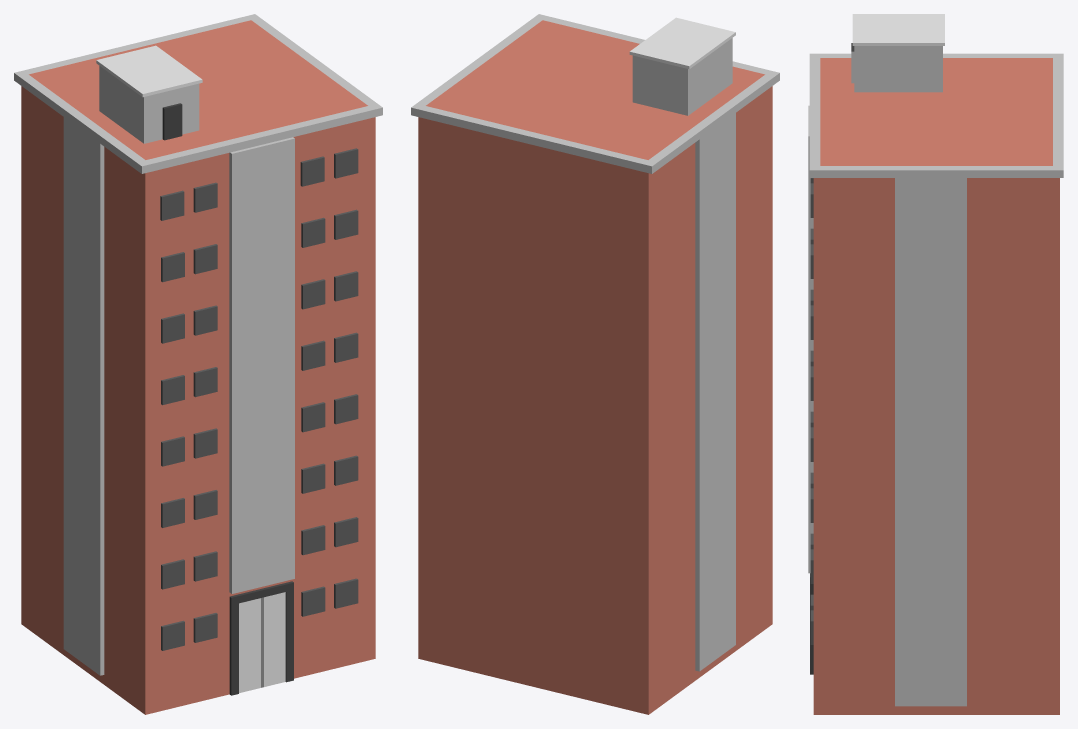
Rendered from Building_5.FBX.
3 renders of one model, left to right at view 1: azimuth 30°, elevation 25°; view 2: azimuth 150°, elevation 25°; view 3: azimuth 270°, elevation 25°, orthographic.
Parts seen in each view (by area): view 1: Building 05; view 2: Building 05; view 3: Building 05.
Part boxes in pixels (x1,y1,x2,y2): Building 05: [14, 14, 382, 714]; Building 05: [411, 14, 779, 714]; Building 05: [808, 14, 1063, 714].
Bounding box in the file's own units: 9.71 × 23.17 × 8.96.
Materials: 1 (1 with a texture image).
